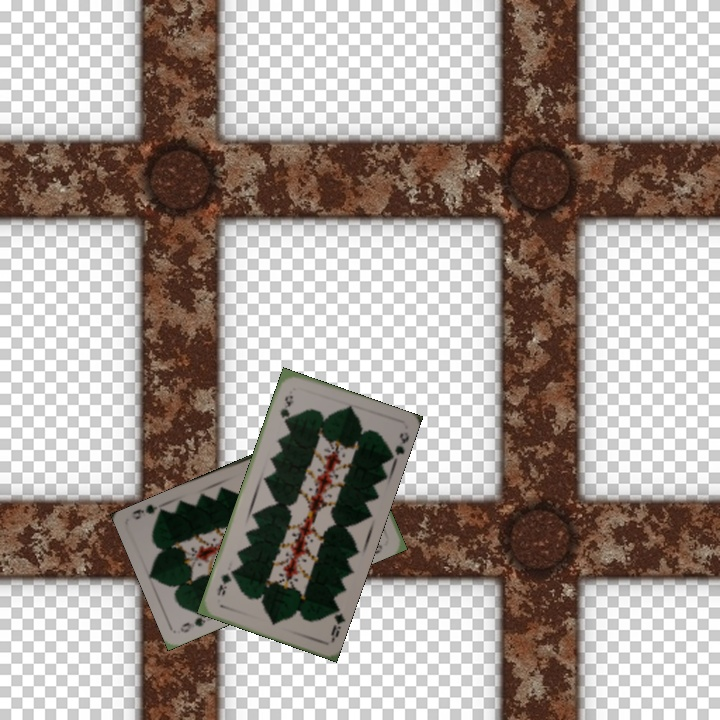G9: (176, 608, 211, 636), (327, 601, 347, 644), (276, 391, 295, 425)
